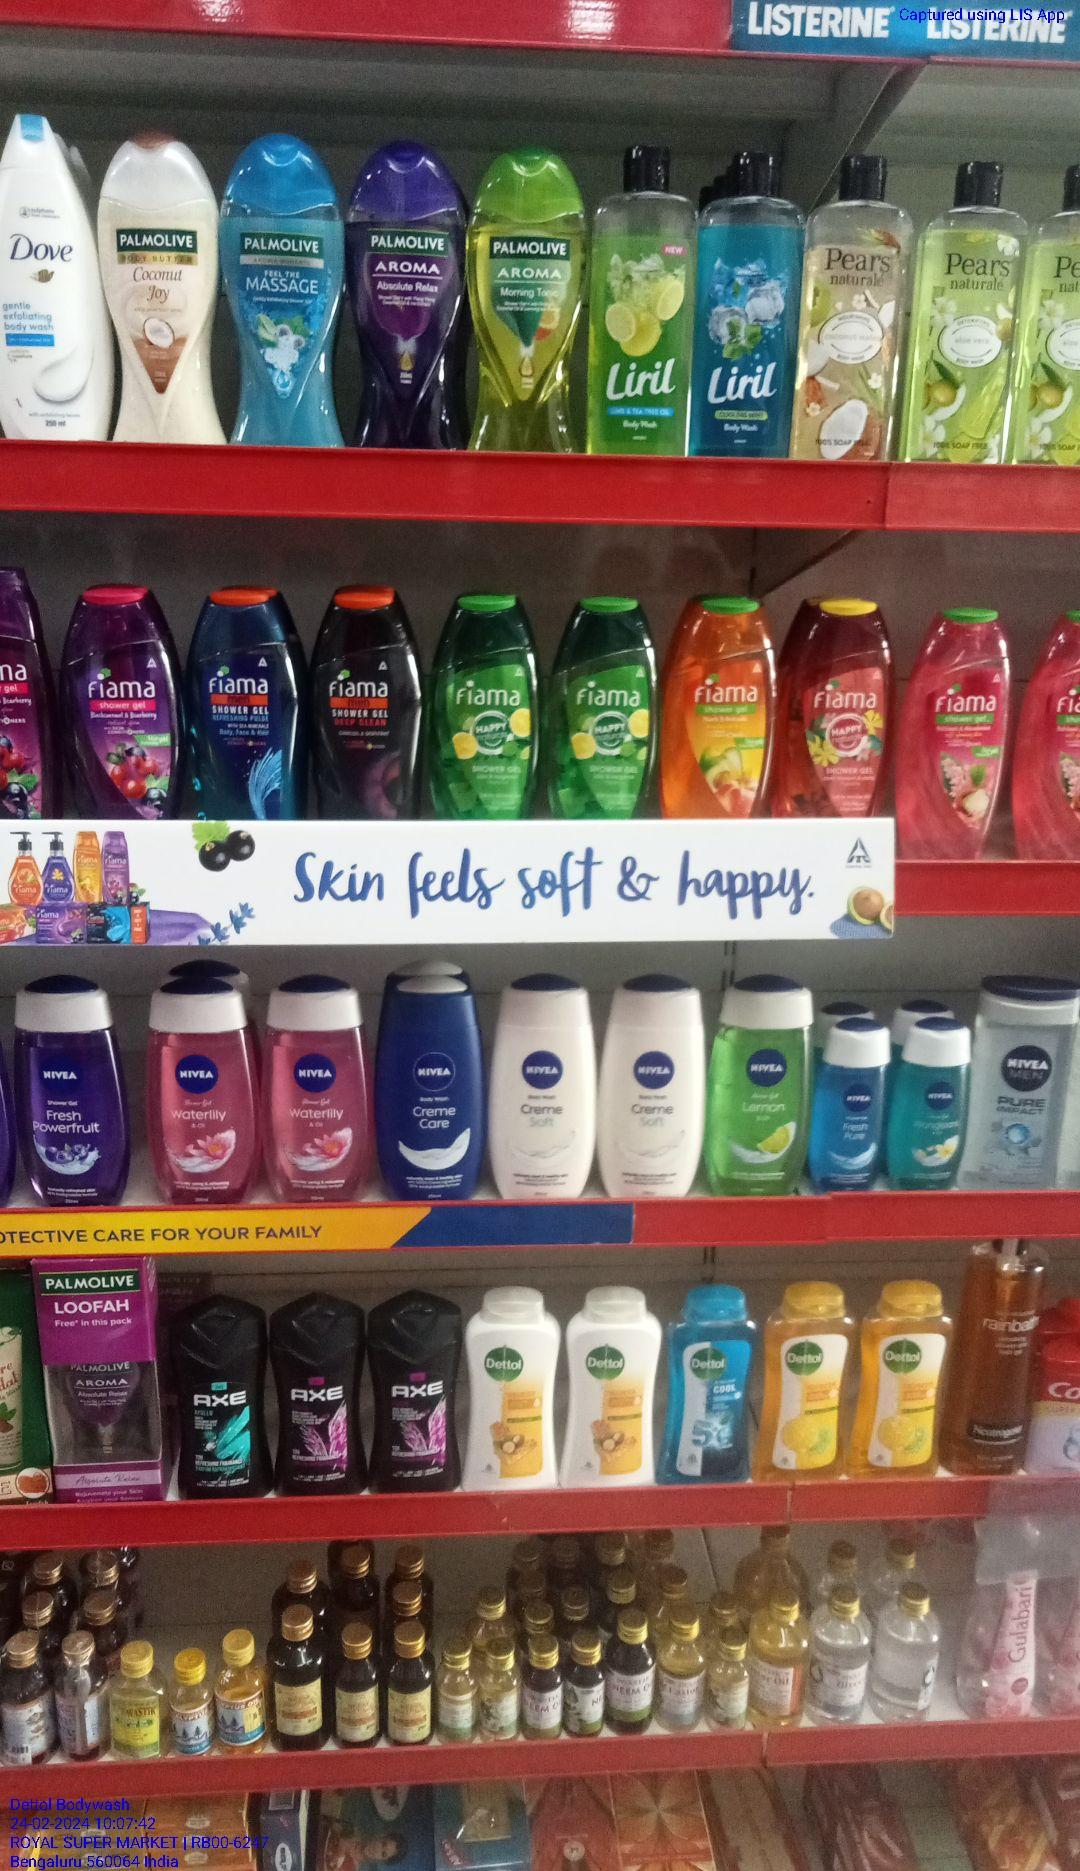Dettol_Bodywash_Cool: (666, 1300, 759, 1485)
Dettol_Bodywash_Refresh: (854, 1286, 954, 1474), (764, 1290, 849, 1478)
Dettol_Nourish_Body_Wash_250ML: (464, 1297, 562, 1494), (566, 1297, 660, 1485)
Dove_Gentle_Exfoliating_Body_Wash_250ML: (0, 111, 111, 438)
Fiama_Shower_Gel_Patchouli_and_Macadamia_250ML: (904, 600, 1011, 864)
Fiama_Shower_Gel_Peach_and_Avocado_250ML: (662, 600, 768, 820)
Liril_Cooling_Mint_Body_Wash_250ML: (698, 146, 795, 454)
Liril_Lime_and_Tea_Tree_Oil_Body_Wash_250ML: (582, 146, 694, 454)
Nivea_Creme_Care_Body_Wash_250ML: (382, 986, 483, 1202)
Nivea_Creme_Soft_Body_Wash_250ML: (490, 988, 600, 1200), (604, 980, 708, 1198)
Nivea_Shower_Gel_Frangipani_and_Oil_250ML: (892, 1024, 976, 1194)
Nivea_Shower_Gel_Fresh_Powerfruit_250ML: (10, 992, 129, 1207)
Nivea_Shower_Gel_Lemon_and_Oil_250ML: (712, 984, 814, 1194)
Nivea_Shower_Gel_Waterlily_and_Oil_250ML: (266, 982, 372, 1204), (147, 988, 256, 1202)
Palmolive_Aroma_Moments_Feel_The_Massage_Shower_Gel_250ML: (220, 134, 346, 450)
Palmolive_Aroma_Morning_Tonic_Shower_Gel_250ML: (474, 158, 584, 452)
Palmolive_Aroma_Relax_250ML: (348, 150, 468, 446)
Palmolive_Coconut_Joy_Exfoliating_Body_Wash_250ML: (102, 137, 219, 446)
Pears_Naturale_Aloe_Vera_Body_Wash_250ML: (896, 166, 1026, 466)
